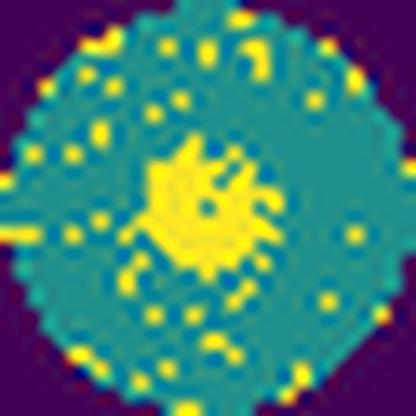Center: (145, 135, 286, 276)
